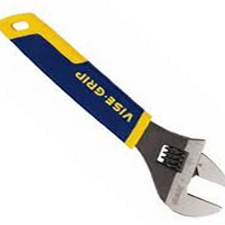Wrench: (1, 3, 225, 218)
